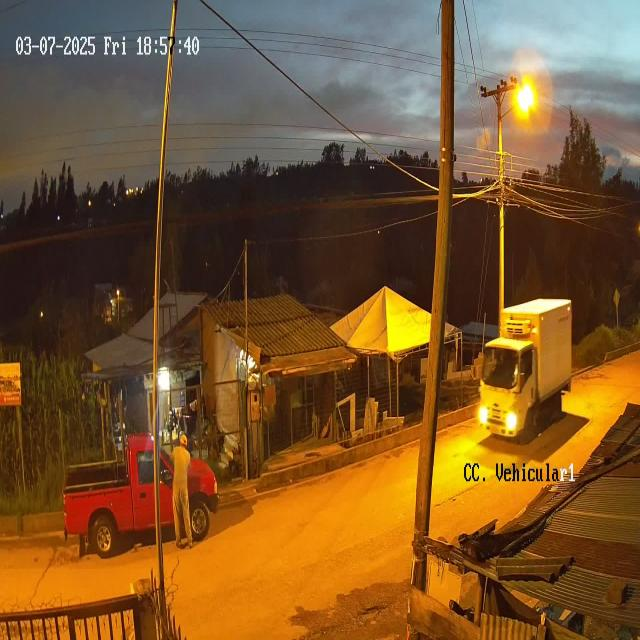TRUCK: (477, 295, 573, 445)
